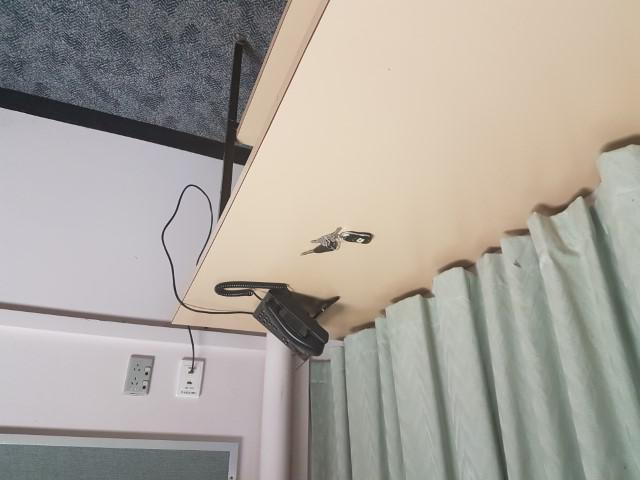key: (300, 241, 340, 258)
